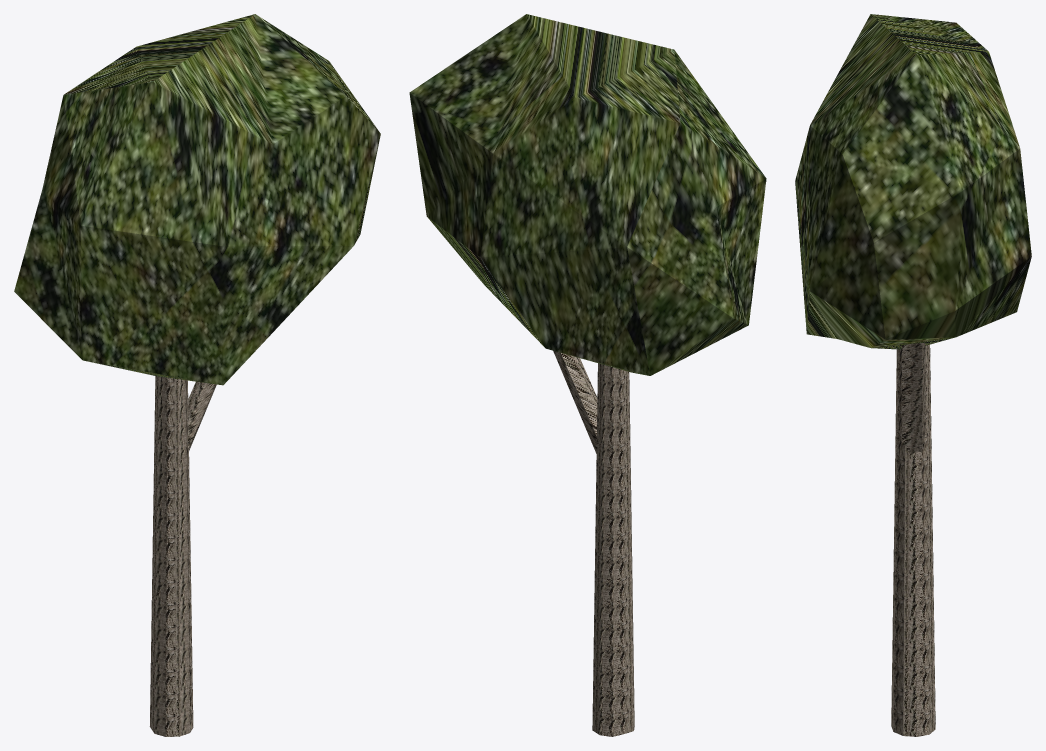
File: tree1.obj
The picture shows the model from 3 angles, left to right: view 1: azimuth 30°, elevation 25°; view 2: azimuth 150°, elevation 25°; view 3: azimuth 270°, elevation 25°; orthographic projection. The views are drawn at different scales.
Size of the model in its own units: 10.24 by 20.62 by 6.18.
2 materials, 2 textured.
